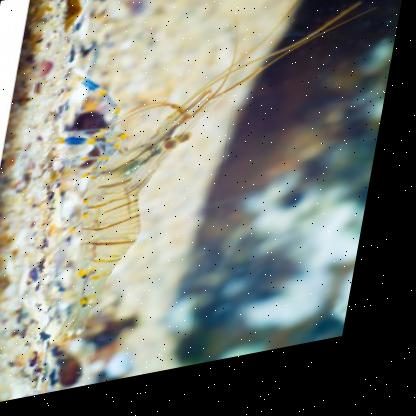shrimp: (49, 85, 235, 326)
